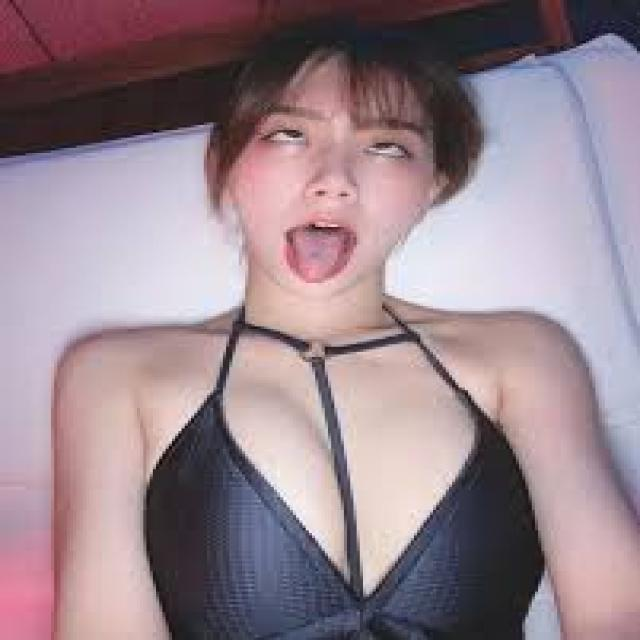tongue: (285, 233, 346, 282)
